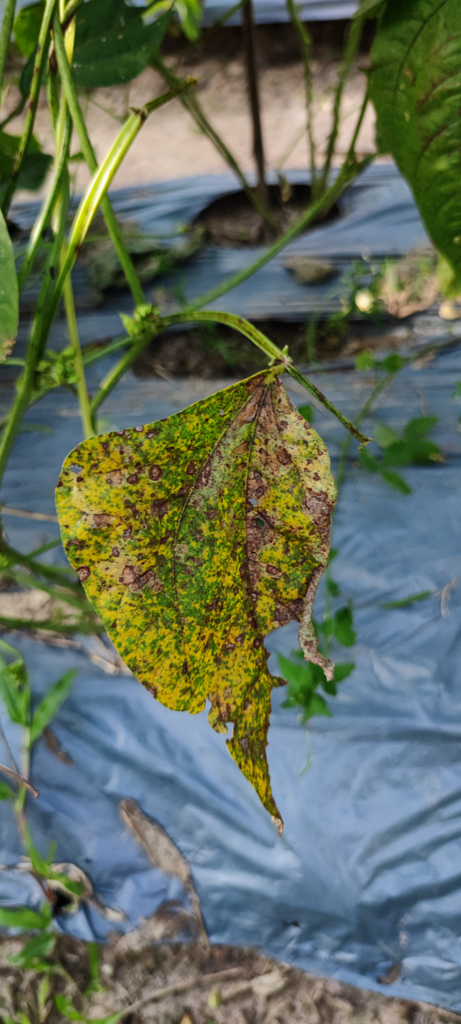Rust: (51, 375, 353, 829)
